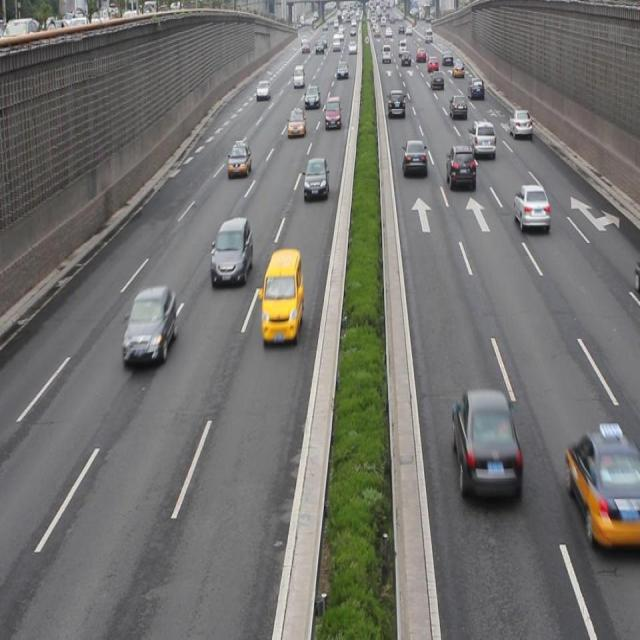car: (565, 432, 640, 552), (453, 389, 521, 499), (122, 284, 176, 366), (211, 215, 253, 288), (512, 181, 549, 230), (446, 142, 476, 190), (303, 156, 330, 201), (468, 119, 494, 157), (402, 138, 427, 177), (228, 140, 252, 176), (508, 106, 532, 141), (287, 108, 306, 137)
truck: (260, 248, 305, 343)
